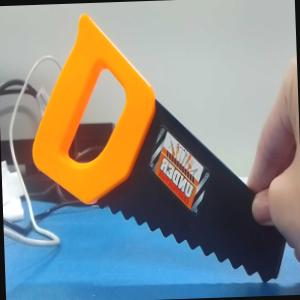serrote: (26, 6, 288, 293)
